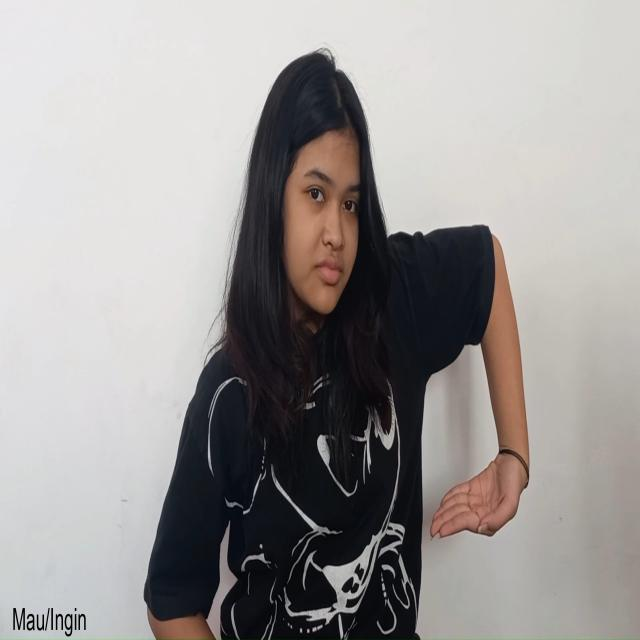Mau-Ingin -BISINDO-: (428, 447, 532, 544)
